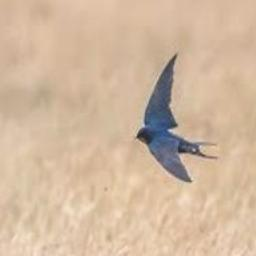Swallow: (135, 52, 217, 181)
